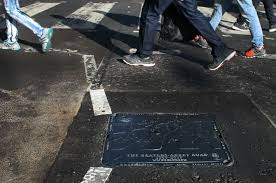Manhole-Closed: (99, 100, 254, 175)
human: (117, 1, 240, 71), (197, 1, 272, 67), (2, 1, 67, 61)
